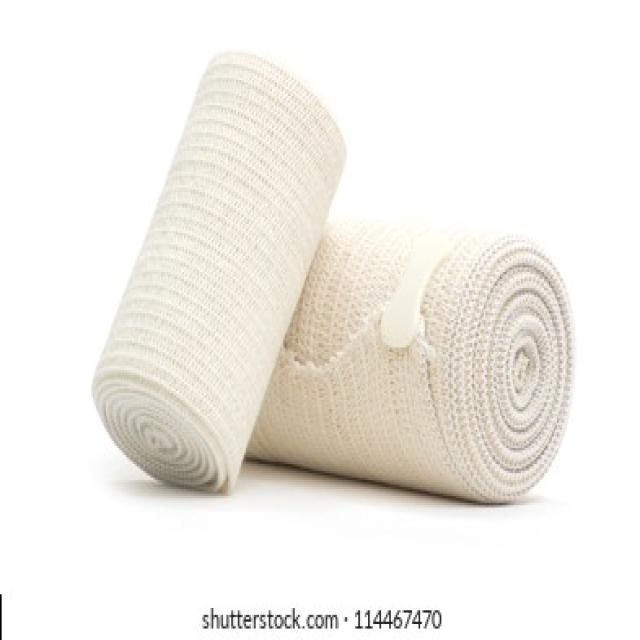B3: (81, 28, 352, 505), (230, 201, 592, 512)
